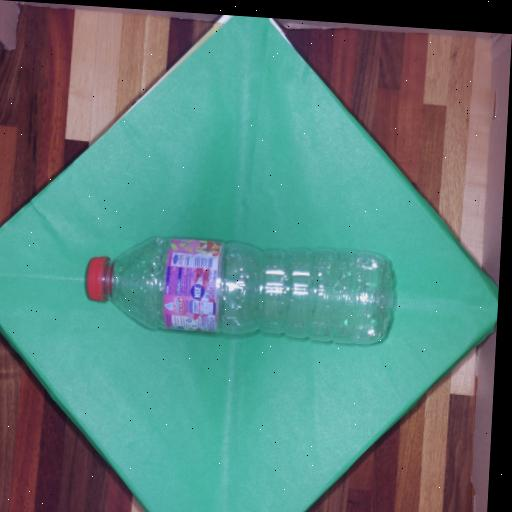bottle: (75, 209, 414, 368)
